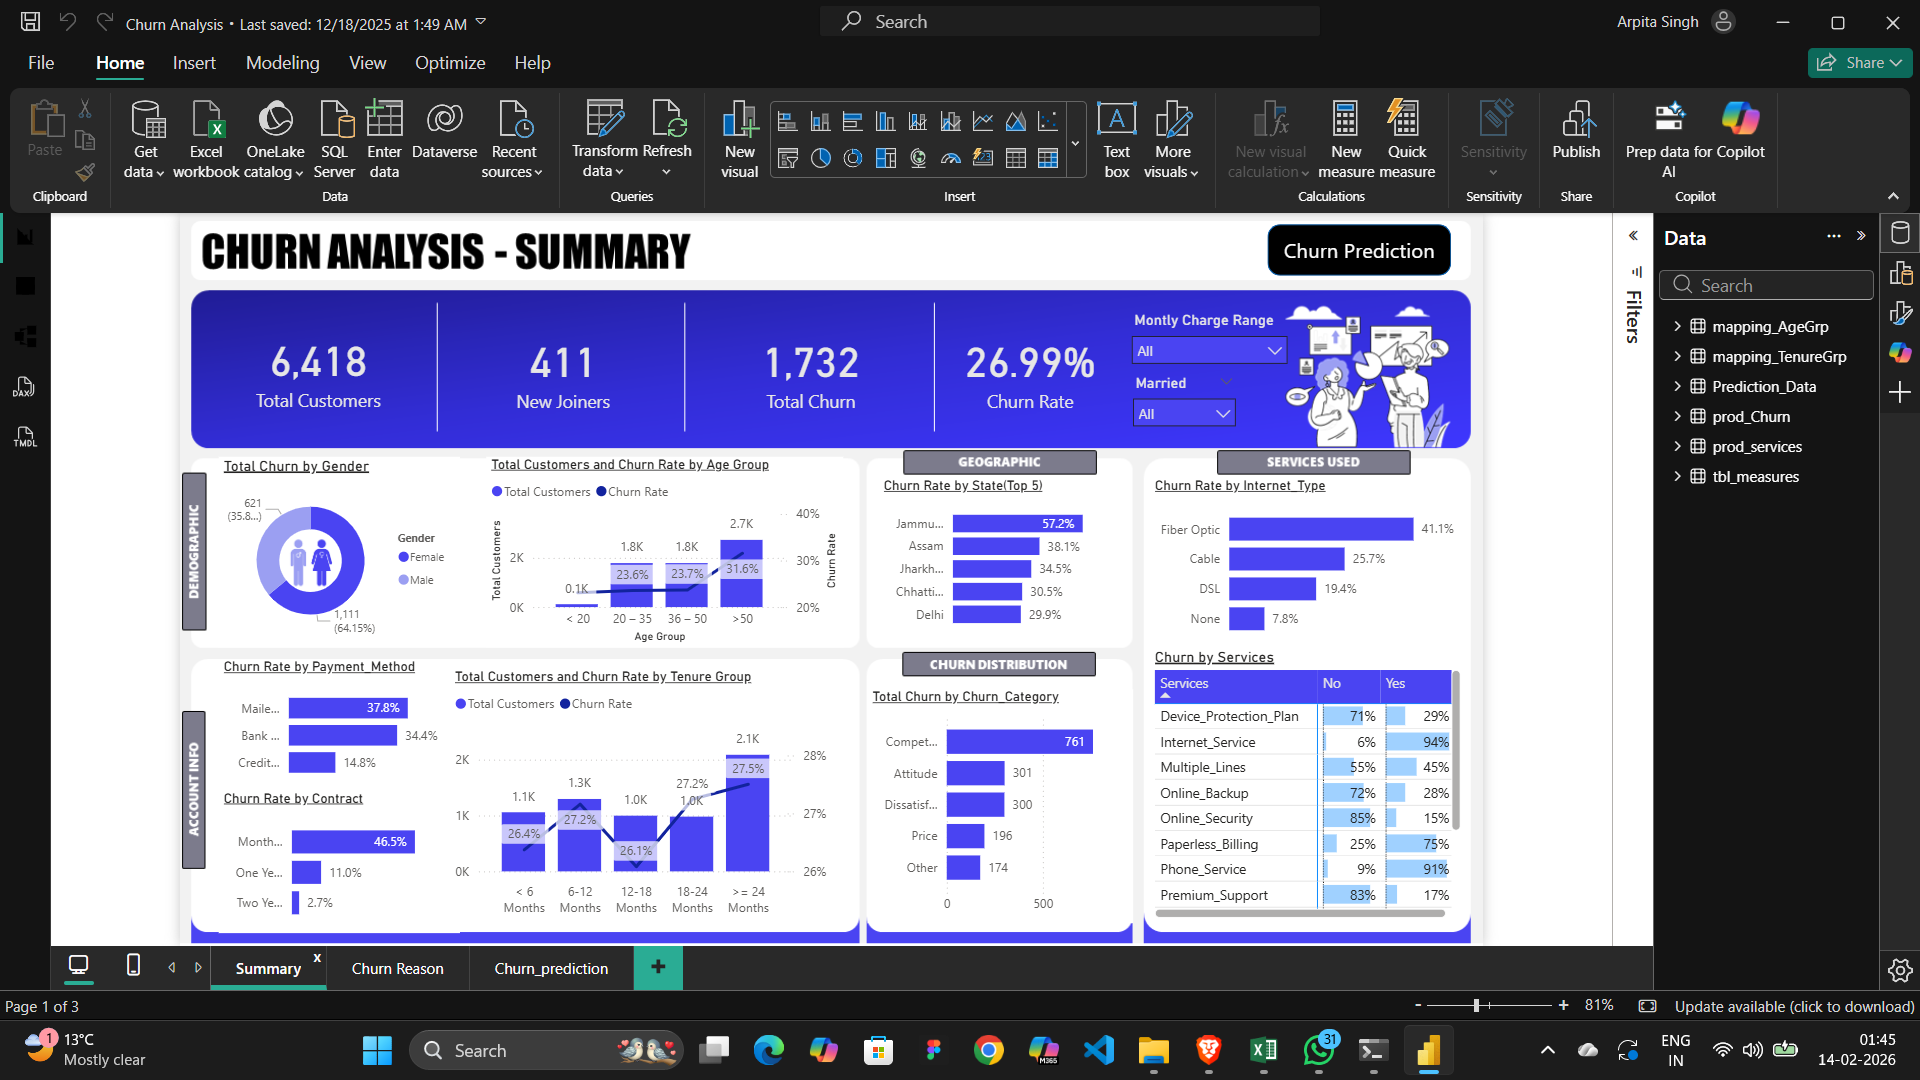

The dashboard page shown, as its layout file describes it:
{"tool":"powerbi","page":{"name":"Summary","canvas":[1280,720],"ordinal":0},"visuals":[{"type":"card","fields":{"Values":["tbl_measures.Total Customers"]},"box":[14.4,92.3,242.4,121.2],"z":0},{"type":"card","fields":{"Values":["tbl_measures.Churn Rate"]},"box":[744.3,92.9,180,121.4],"z":1000},{"type":"card","fields":{"Values":["tbl_measures.New Joiners"]},"box":[257.1,92.9,237.1,121.4],"z":2000},{"type":"card","fields":{"Values":["tbl_measures.Total Churn"]},"box":[494.3,92.9,250,121.4],"z":3000},{"type":"donutChart","fields":{"Category":["prod_Churn.Gender"],"Y":["tbl_measures.Total Churn"]},"box":[37.5,239.5,236.6,187.6],"z":4000},{"type":"image","box":[80.8,313.1,96.7,59.2],"z":5000},{"type":"lineStackedColumnComboChart","fields":{"Category":["mapping_AgeGrp.Age Group"],"Y":["tbl_measures.Total Customers"],"Y2":["tbl_measures.Churn Rate"]},"box":[300.1,239.5,350.6,187.6],"z":6000},{"type":"clusteredBarChart","fields":{"Category":["prod_Churn.Payment_Method"],"Y":["tbl_measures.Churn Rate"]},"box":[37.5,438.6,223.6,128.4],"z":7000},{"type":"clusteredBarChart","fields":{"Y":["tbl_measures.Churn Rate"],"Category":["prod_Churn.Contract"]},"box":[37.5,567,236.6,139.9],"z":8000},{"type":"lineStackedColumnComboChart","fields":{"Category":["mapping_TenureGrp.Tenure Group"],"Y":["tbl_measures.Total Customers"],"Y2":["tbl_measures.Churn Rate"]},"box":[265.5,447.3,375.1,249.6],"z":9000},{"type":"clusteredBarChart","title":"Churn Rate by State(Top 5)","fields":{"Category":["prod_Churn.State"],"Y":["tbl_measures.Churn Rate"]},"box":[685.7,260,238.6,157.1],"z":10000},{"type":"clusteredBarChart","fields":{"Category":["prod_Churn.Churn_Category"],"Y":["tbl_measures.Total Churn"]},"box":[675.2,467.5,261.1,229.4],"z":11000},{"type":"clusteredBarChart","fields":{"Category":["prod_Churn.Internet_Type"],"Y":["tbl_measures.Churn Rate"]},"box":[952.2,259.7,310.2,167.4],"z":12000},{"type":"pivotTable","title":"Churn by Services ","fields":{"Rows":["prod_services.Services"],"Columns":["prod_services.Status"],"Values":["Sum(prod_services.Churn Status)"]},"box":[952.2,427.1,310.2,269.8],"z":13000},{"type":"slicer","fields":{"Values":["prod_services.Montly Charge Status"]},"box":[923.4,92.3,173.1,60.6],"z":14000},{"type":"slicer","fields":{"Values":["prod_services.Married"]},"box":[924.8,152.9,121.2,66.4],"z":15000},{"type":"shape","box":[1067.6,11.5,180.3,50.5],"z":15001}]}

Visuals, with their boxes on the page's 1280x720 design canvas (x1, y1, x2, y2). These are canvas units, not pixel positions in the 1920x1080 screenshot, which may show the page scaled, cropped or inside an application window:
card - tbl_measures.Total Customers: box=[14, 92, 257, 214]
card - tbl_measures.Churn Rate: box=[744, 93, 924, 214]
card - tbl_measures.New Joiners: box=[257, 93, 494, 214]
card - tbl_measures.Total Churn: box=[494, 93, 744, 214]
donutChart - prod_Churn.Gender x tbl_measures.Total Churn: box=[38, 240, 274, 427]
image: box=[81, 313, 178, 372]
lineStackedColumnComboChart - mapping_AgeGrp.Age Group x tbl_measures.Total Customers: box=[300, 240, 651, 427]
clusteredBarChart - prod_Churn.Payment_Method x tbl_measures.Churn Rate: box=[38, 439, 261, 567]
clusteredBarChart - tbl_measures.Churn Rate x prod_Churn.Contract: box=[38, 567, 274, 707]
lineStackedColumnComboChart - mapping_TenureGrp.Tenure Group x tbl_measures.Total Customers: box=[266, 447, 641, 697]
"Churn Rate by State(Top 5)" clusteredBarChart: box=[686, 260, 924, 417]
clusteredBarChart - prod_Churn.Churn_Category x tbl_measures.Total Churn: box=[675, 468, 936, 697]
clusteredBarChart - prod_Churn.Internet_Type x tbl_measures.Churn Rate: box=[952, 260, 1262, 427]
"Churn by Services " pivotTable: box=[952, 427, 1262, 697]
slicer - prod_services.Montly Charge Status: box=[923, 92, 1096, 153]
slicer - prod_services.Married: box=[925, 153, 1046, 219]
shape: box=[1068, 12, 1248, 62]
